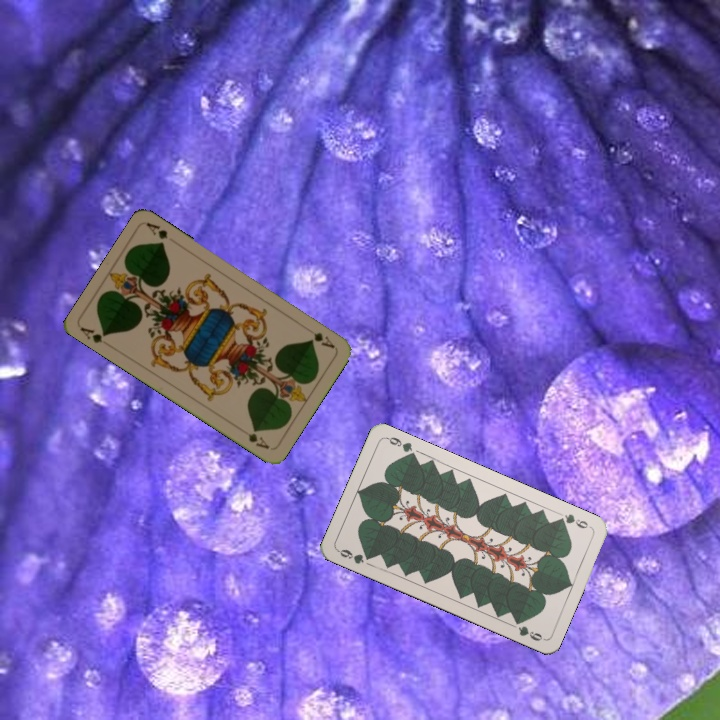G9: (334, 545, 375, 567), (553, 510, 594, 531)
GA: (302, 323, 337, 351), (76, 323, 110, 346)
